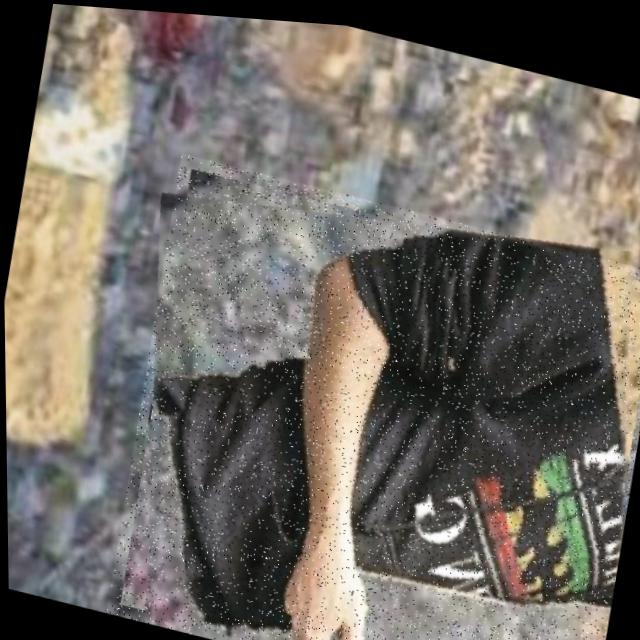Person in Rubble: (98, 145, 640, 640)
